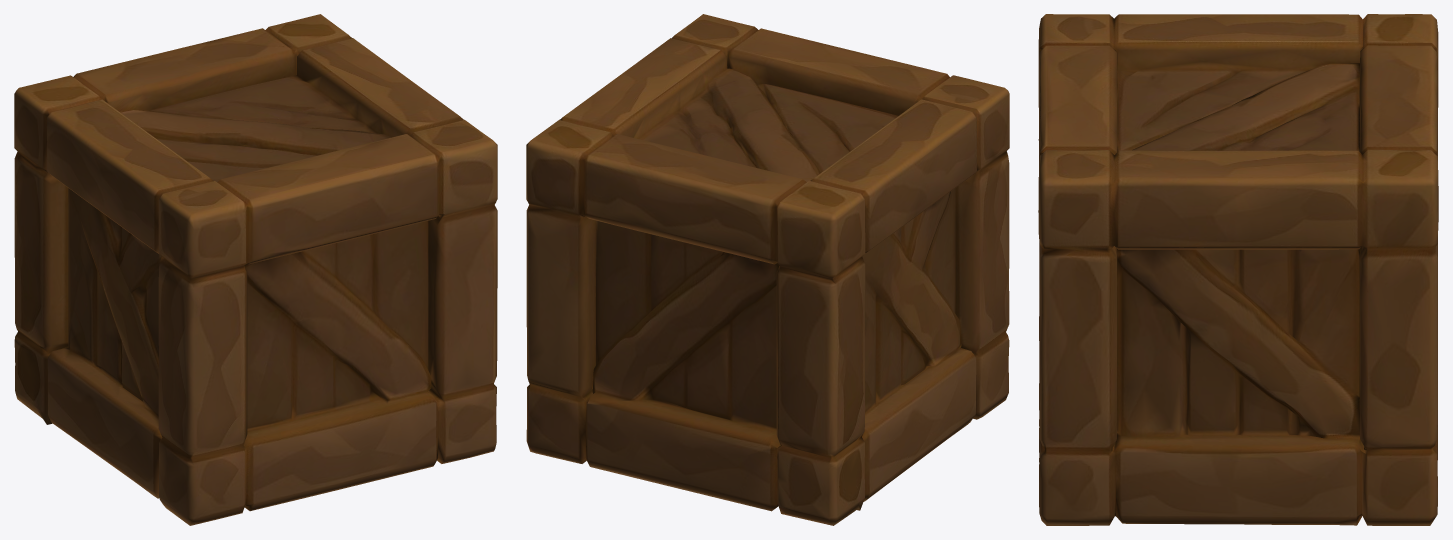
The model's file is crate.1k.glb.
3 renders of one model, left to right at view 1: azimuth 30°, elevation 25°; view 2: azimuth 150°, elevation 25°; view 3: azimuth 270°, elevation 25°, orthographic. The views are drawn at different scales.
Parts seen in each view (by area): view 1: tripo_node_1b7bc2b3-2af1-48d4-9061-c69a55c48319; view 2: tripo_node_1b7bc2b3-2af1-48d4-9061-c69a55c48319; view 3: tripo_node_1b7bc2b3-2af1-48d4-9061-c69a55c48319.
Part boxes in pixels (x1,y1,x2,y2): tripo_node_1b7bc2b3-2af1-48d4-9061-c69a55c48319: (14, 14, 497, 525); tripo_node_1b7bc2b3-2af1-48d4-9061-c69a55c48319: (526, 14, 1009, 525); tripo_node_1b7bc2b3-2af1-48d4-9061-c69a55c48319: (1038, 14, 1438, 525).
Bounding box in the file's own units: 1 × 0.9751 × 0.9986.
Materials: 1 (1 with a texture image).
